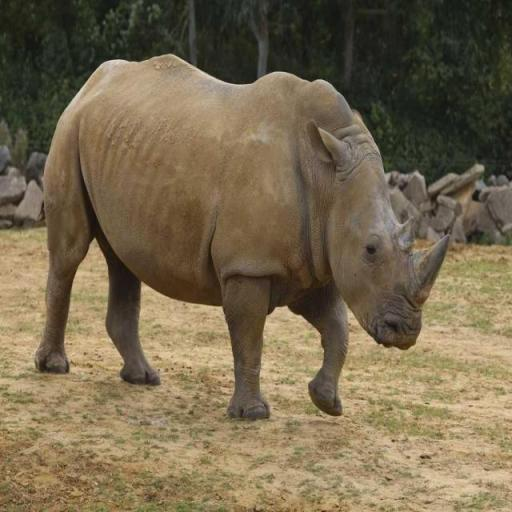Rhino: (33, 52, 450, 421)
